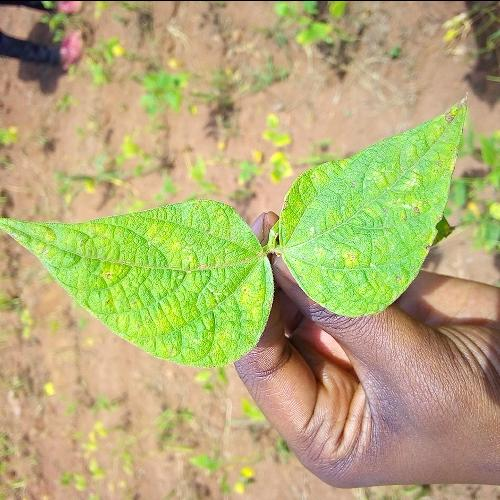mozaik: (316, 139, 434, 301), (99, 233, 240, 318)
